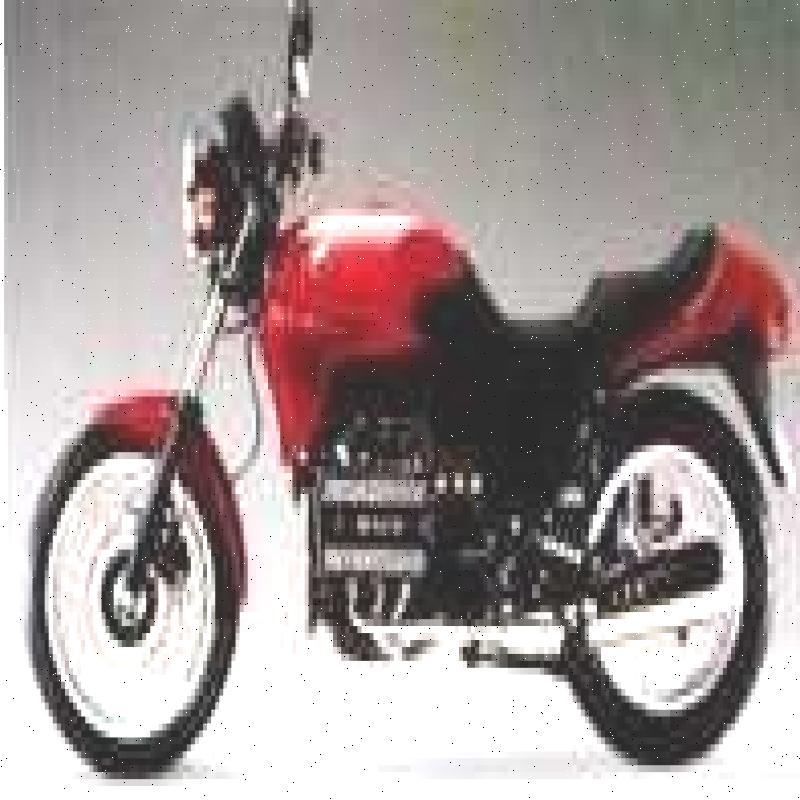bike: (8, 0, 792, 800)
